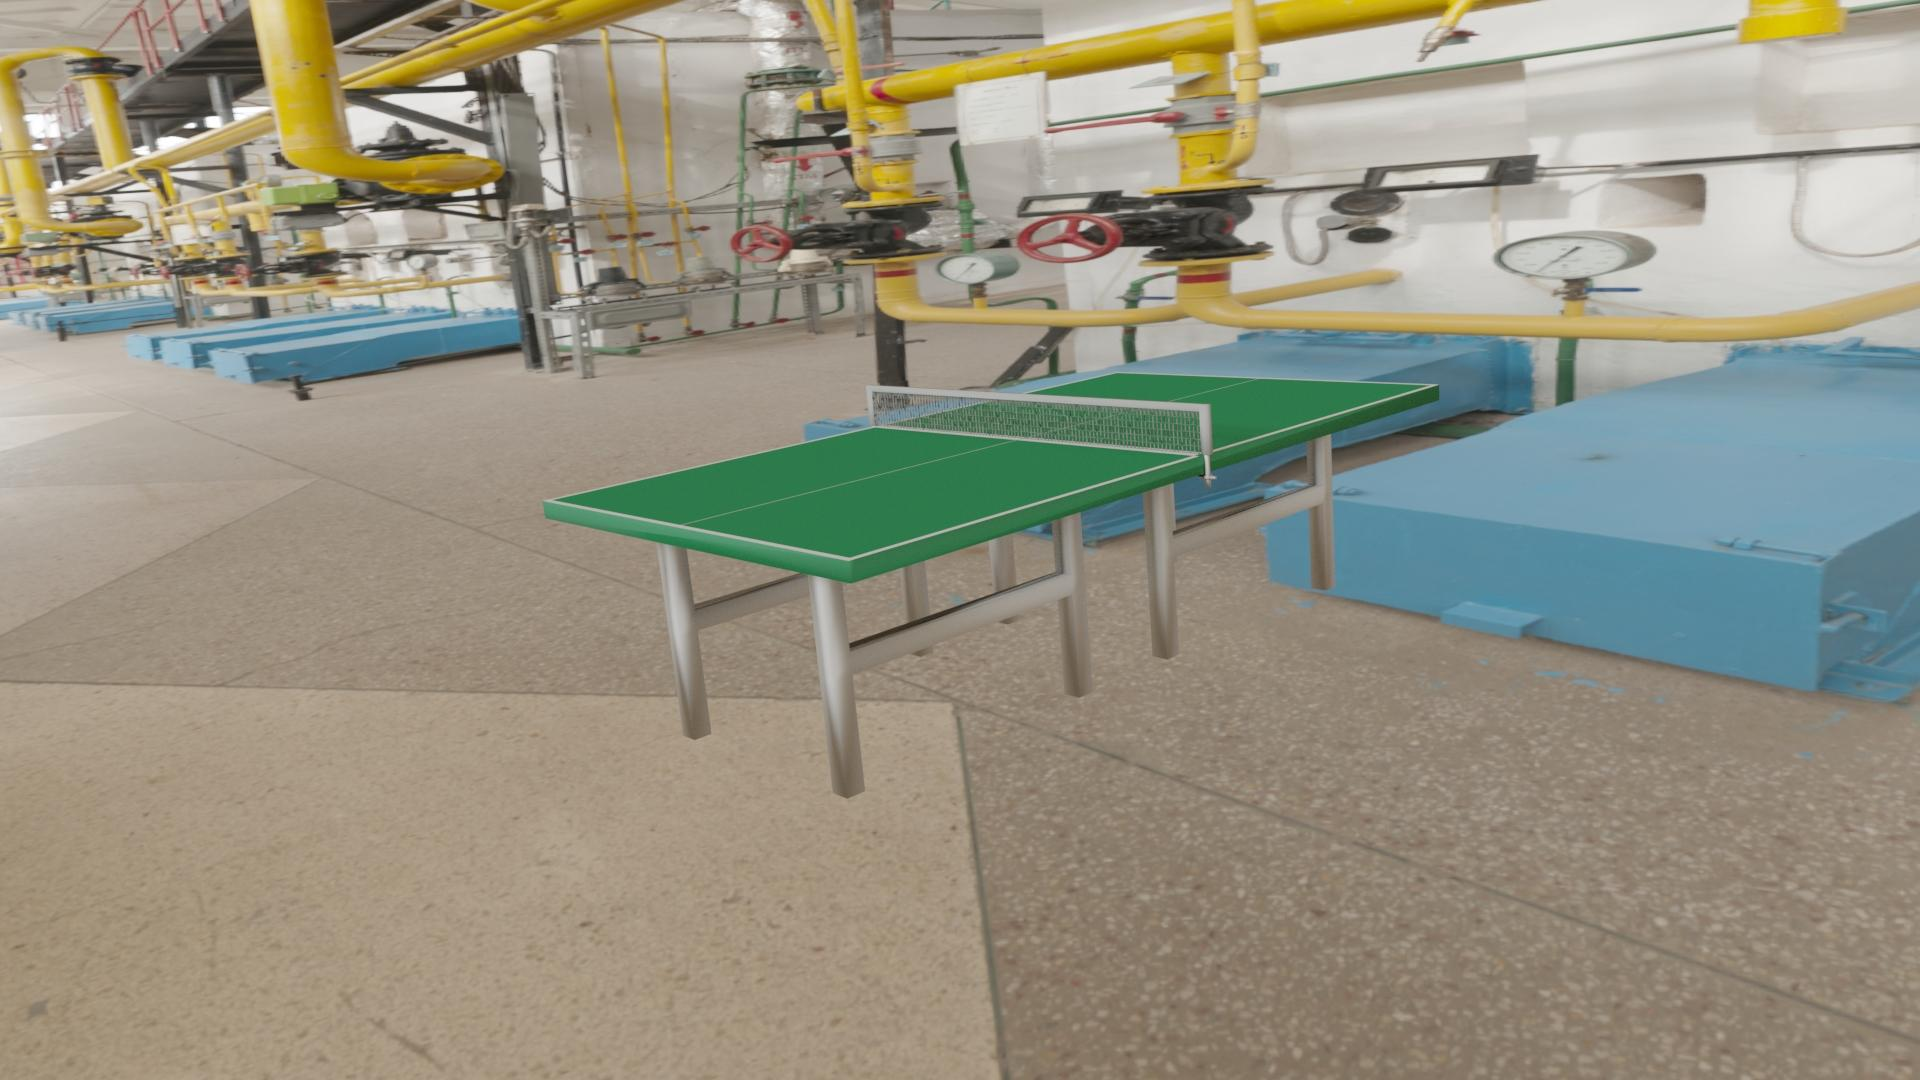table: (551, 373, 1431, 558)
